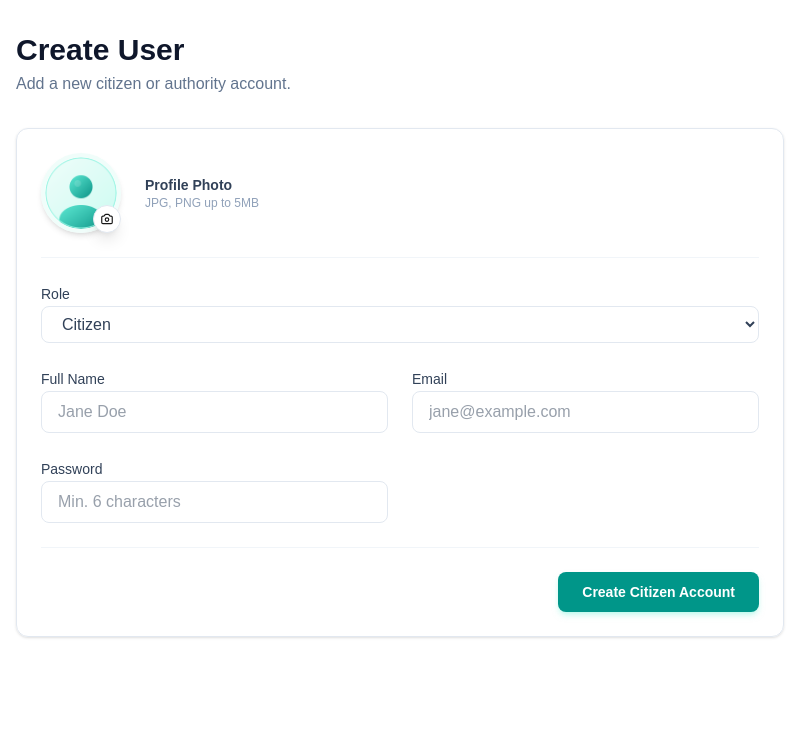
it: Create User Page › submit button changes label for authority role
Select "Authority" in the dropdown named "role". click: [400, 324]
box: x1=41 y1=306 x2=759 y2=343
(page scrolled)
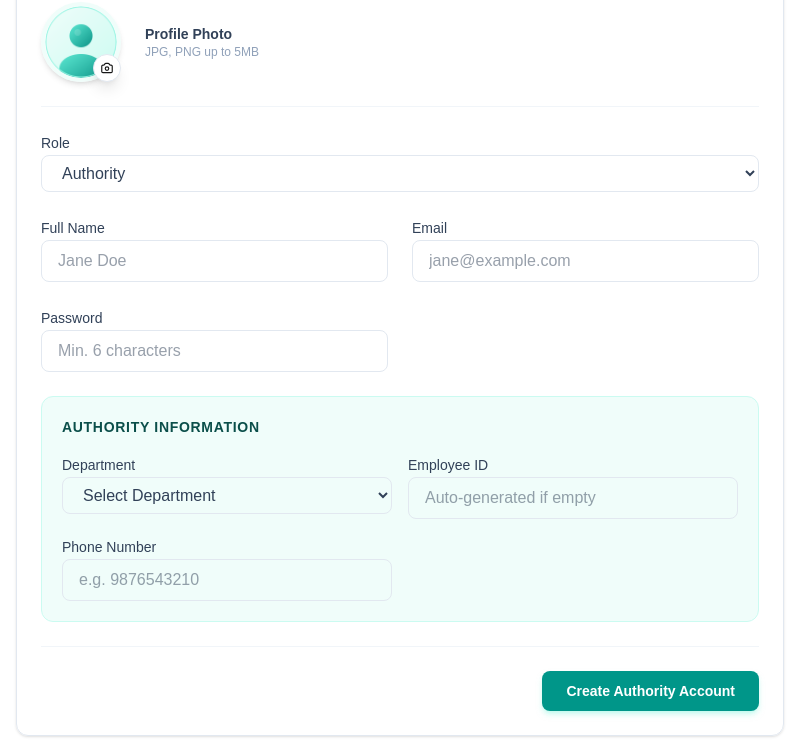
Expected: the button "Create Authority Account" is shown, x1=542 y1=671 x2=759 y2=711
